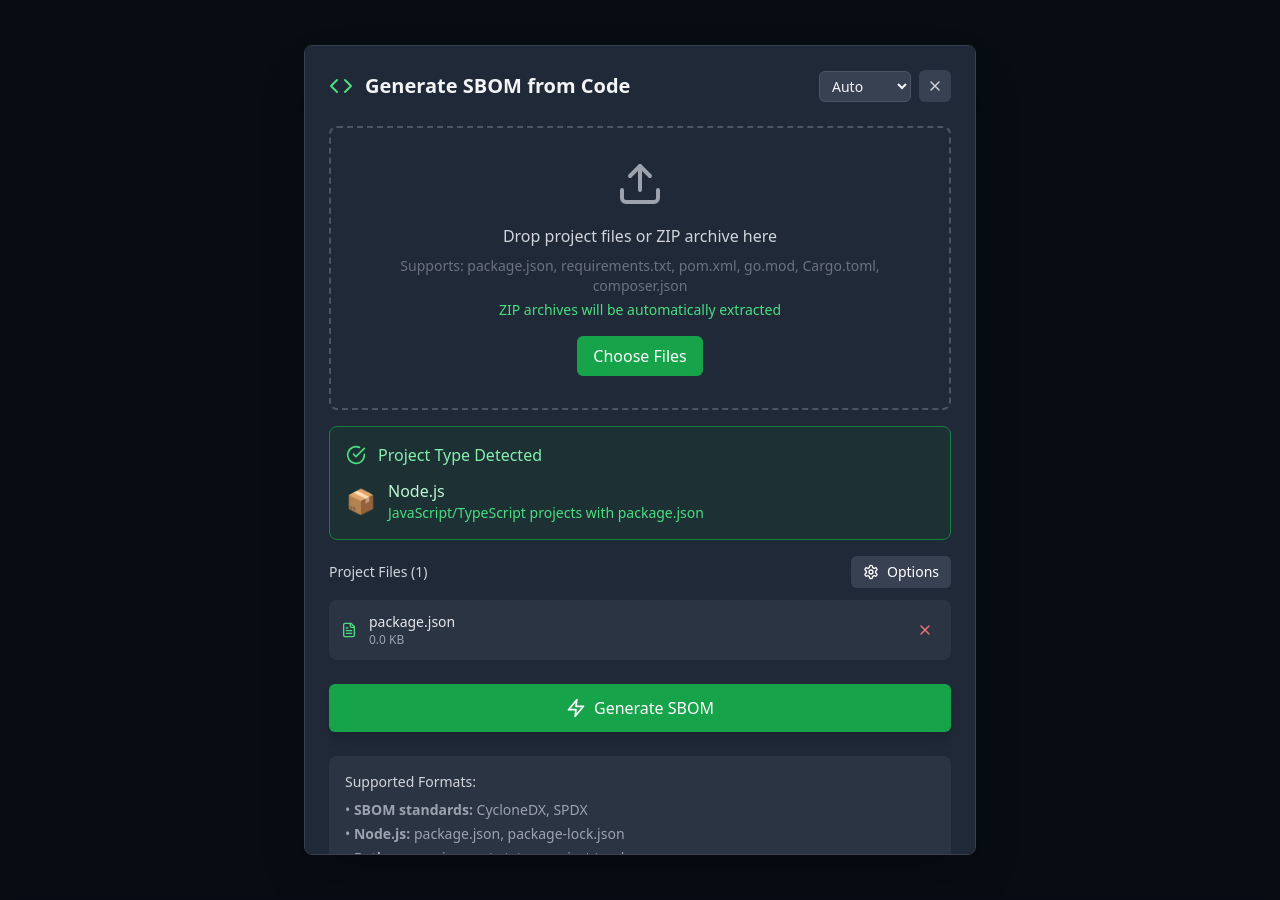
Test: CodeUploader › should handle generation options changes
Earlier steps of the test are not shown.
Click the button "Options" at (901, 572), box [851,556,951,588]
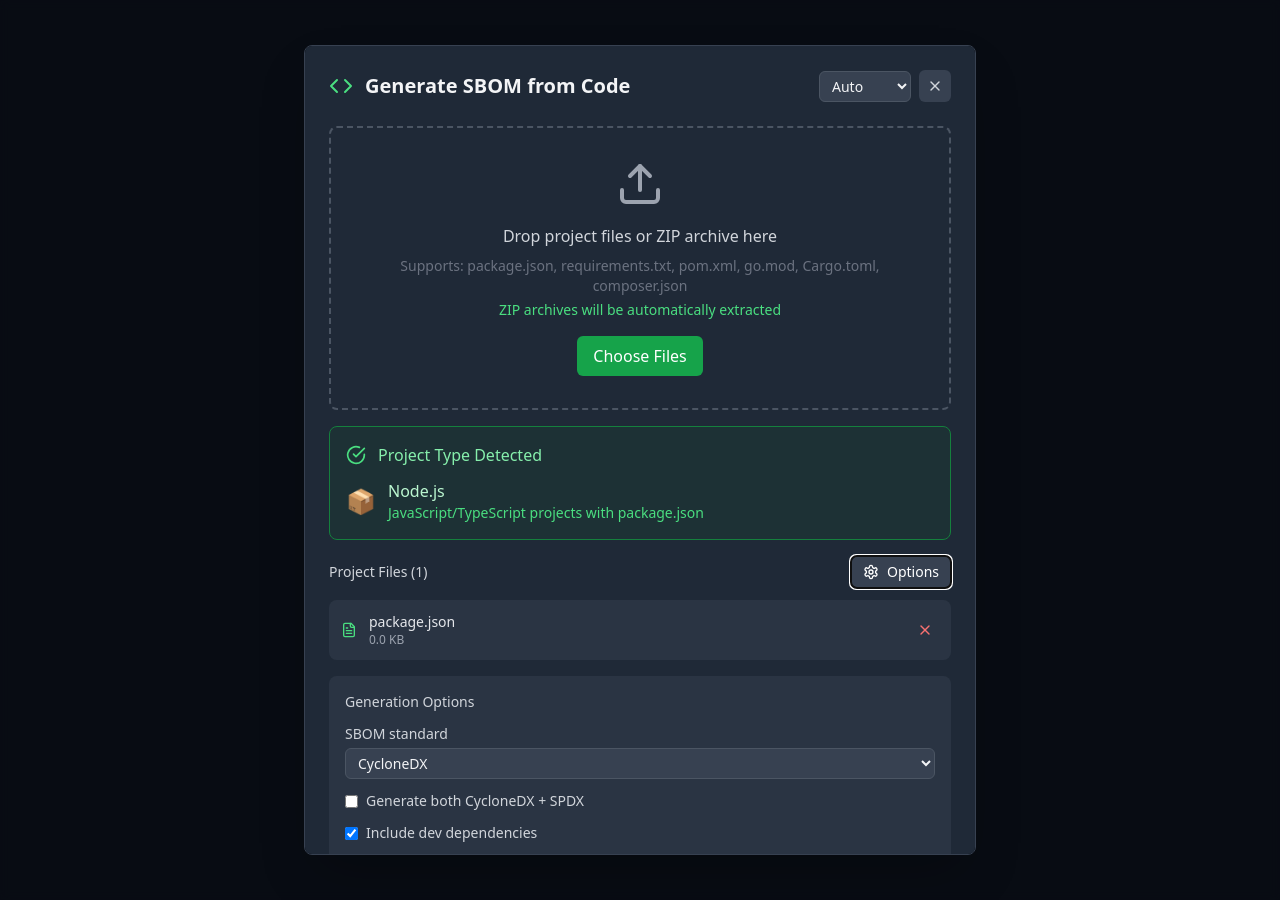
Click the checkbox labelled "Include dev dependencies" at (352, 833), box [345,826,358,840]
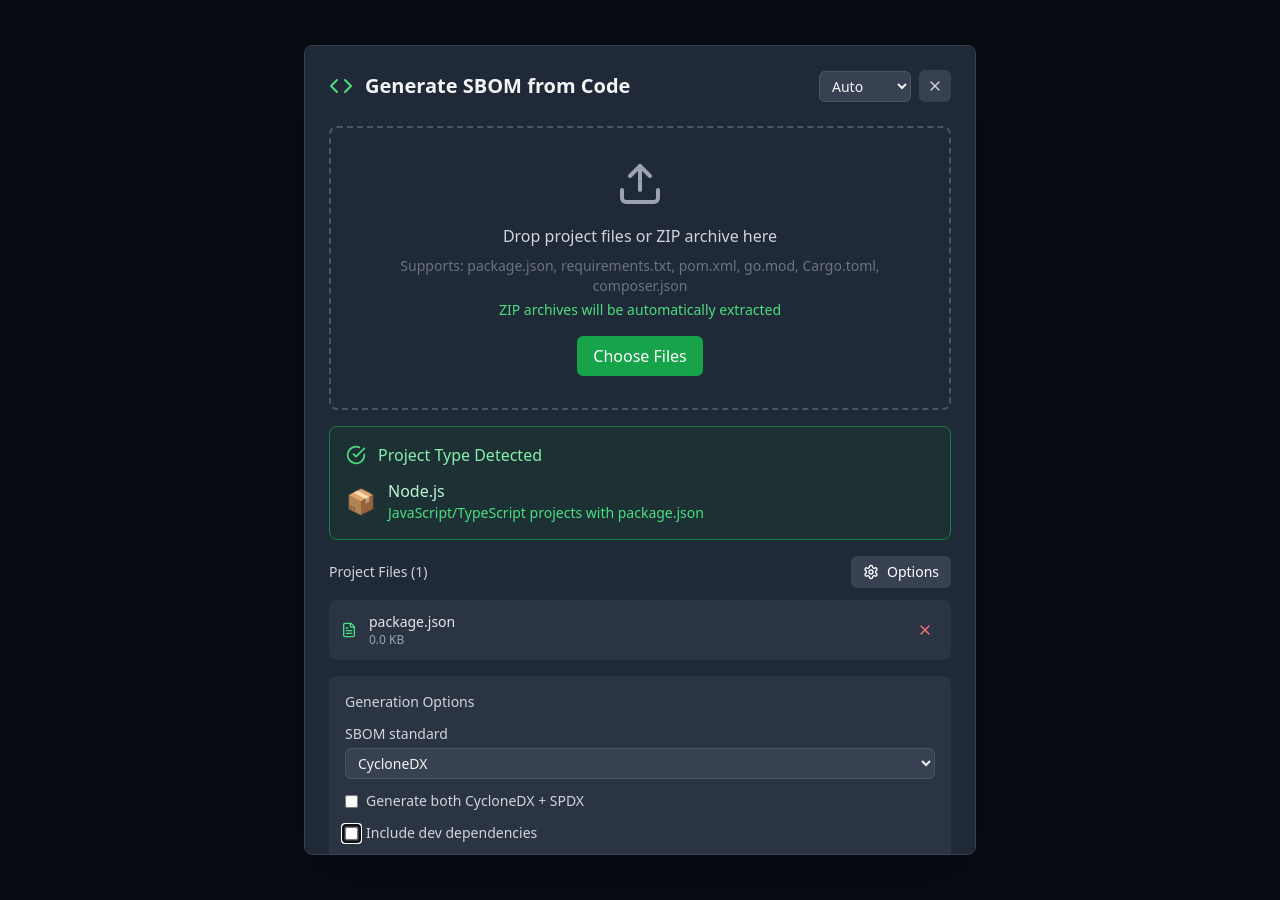
expect the checkbox labelled "Include dev dependencies" is not checked: met, box [345,826,358,840]
